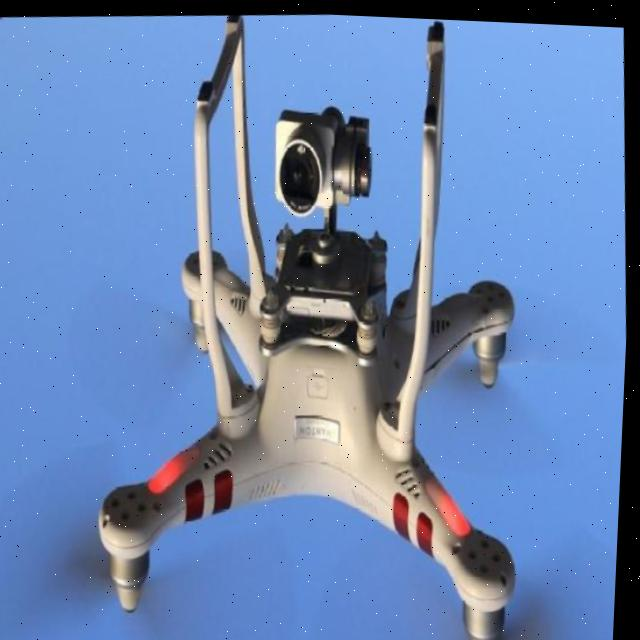drones: (5, 1, 640, 640)
